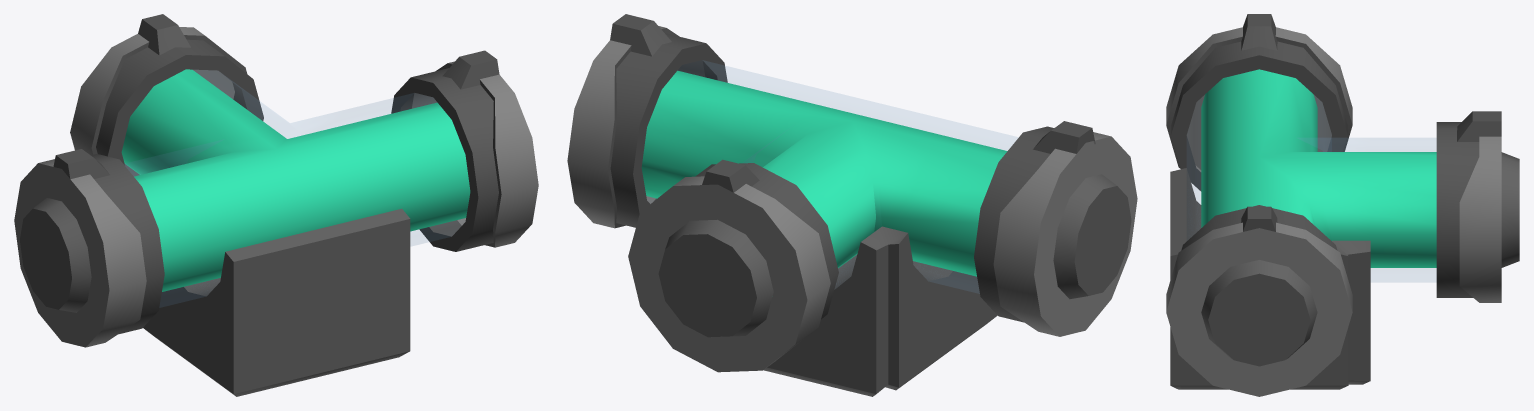
Rendered from Liquid_Blue_Pipe_3_Way.fbx.
3 renders of one model, left to right at view 1: azimuth 30°, elevation 25°; view 2: azimuth 150°, elevation 25°; view 3: azimuth 270°, elevation 25°, orthographic. The views are drawn at different scales.
Visible parts, largest first — view 1: Liquid_Blue_Pipe_3_Way; view 2: Liquid_Blue_Pipe_3_Way; view 3: Liquid_Blue_Pipe_3_Way.
Boxes of the visible parts, x1,y1,x2,y2 form: Liquid_Blue_Pipe_3_Way: (14, 14, 538, 396); Liquid_Blue_Pipe_3_Way: (567, 14, 1137, 396); Liquid_Blue_Pipe_3_Way: (1166, 14, 1519, 396).
Size of the model in its own units: 215 by 107 by 146.
